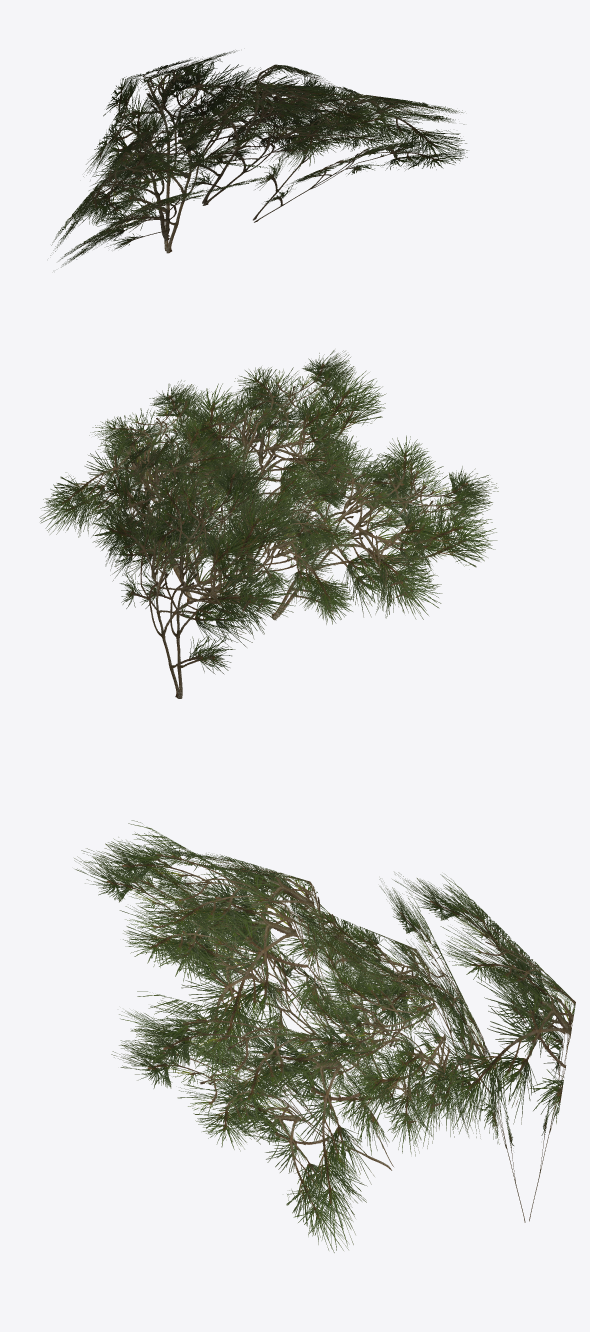
The model's file is Diamond2Sided_Group.FBX.
3 views of the same model, one above another, from view 1: azimuth 30°, elevation 25°; view 2: azimuth 150°, elevation 25°; view 3: azimuth 270°, elevation 25° (orthographic). The views are drawn at different scales.
Parts seen in each view (by area): view 1: Plane001; view 2: Plane001; view 3: Plane001.
Boxes of the visible parts, <box> form: Plane001: <box>50,50,467,267</box>; Plane001: <box>39,350,498,698</box>; Plane001: <box>74,820,575,1252</box>.
Bounding box in the file's own units: 176 × 82.8 × 107.
1 material, 1 textured.
